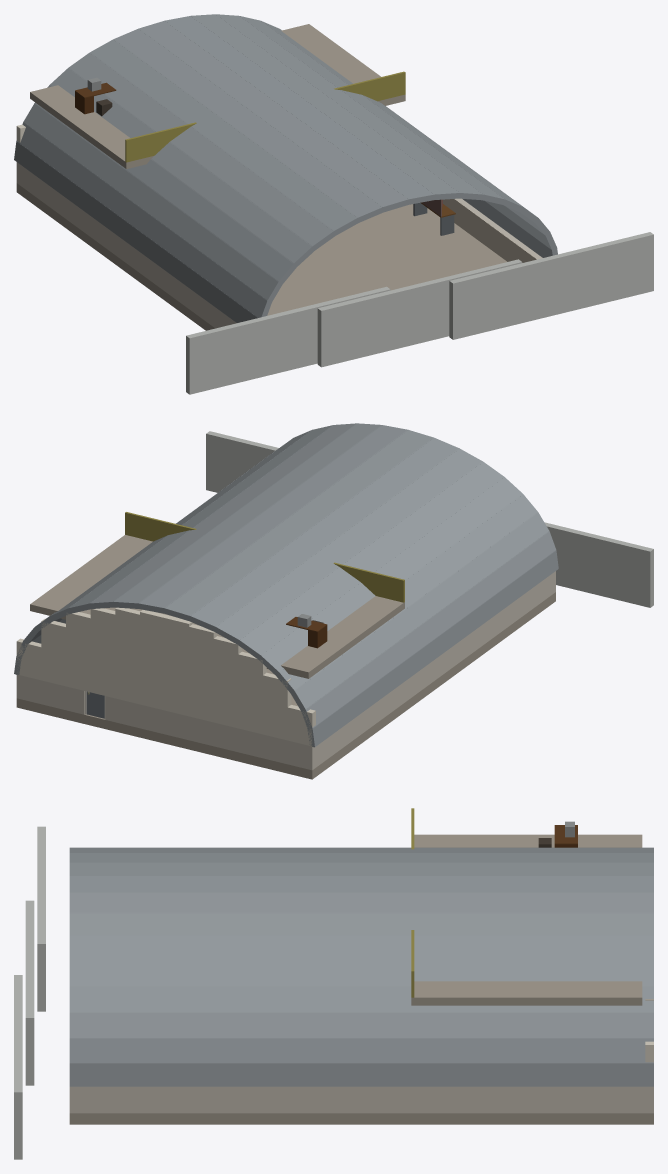
The model's file is munitions_bunker.glb.
The picture shows the model from 3 angles, top to bottom: view 1: azimuth 30°, elevation 25°; view 2: azimuth 150°, elevation 25°; view 3: azimuth 270°, elevation 25°; orthographic projection. The views are drawn at different scales.
Visible parts, largest first — view 1: LOD0, FURN; view 2: LOD0, FURN; view 3: LOD0, FURN.
Part boxes in pixels (x1,y1,x2,y2): LOD0: [14, 14, 653, 394]; FURN: [75, 77, 455, 235]; LOD0: [14, 423, 653, 779]; FURN: [286, 614, 327, 648]; LOD0: [14, 808, 653, 1159]; FURN: [538, 821, 577, 847].
Size of what is drawn, in the model's own units: 21.5 by 6.13 by 21.9.
